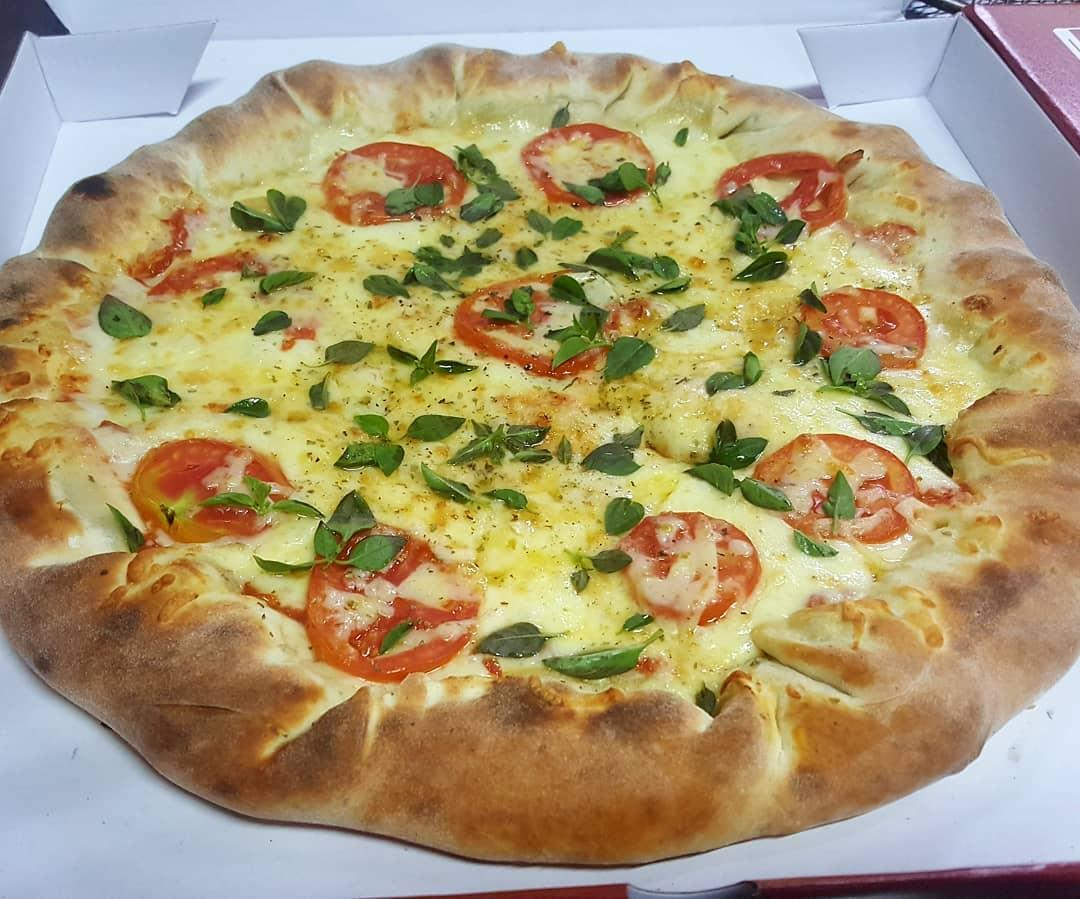Basil: (687, 416, 797, 516), (708, 182, 809, 287), (832, 400, 952, 473), (361, 243, 500, 300), (543, 623, 672, 684), (817, 342, 916, 421), (561, 159, 675, 218), (449, 136, 523, 225), (446, 416, 556, 468), (544, 299, 618, 372), (591, 225, 682, 282), (336, 409, 406, 480), (381, 338, 482, 386), (464, 622, 575, 665), (107, 372, 184, 429), (228, 185, 308, 238), (580, 418, 645, 480), (595, 332, 657, 390), (325, 490, 380, 553), (336, 530, 411, 574), (816, 465, 859, 539), (381, 169, 447, 217), (410, 460, 476, 507), (297, 336, 377, 374), (704, 347, 760, 401), (93, 293, 153, 343), (102, 497, 151, 556), (568, 547, 636, 588), (484, 285, 541, 329), (480, 484, 542, 523), (522, 206, 589, 241), (541, 269, 597, 309), (256, 265, 321, 299), (648, 301, 713, 335), (196, 488, 265, 520), (599, 494, 648, 538), (401, 413, 464, 443), (253, 552, 331, 576), (789, 526, 843, 559), (791, 318, 825, 369), (268, 495, 323, 526), (309, 517, 340, 569), (223, 391, 272, 423), (376, 617, 418, 654), (797, 275, 831, 317), (250, 308, 298, 337), (241, 473, 275, 512), (304, 371, 334, 415), (545, 96, 576, 137), (643, 273, 697, 296), (619, 608, 657, 635), (200, 285, 230, 312), (473, 224, 504, 249), (512, 244, 539, 272), (556, 431, 572, 470), (436, 231, 461, 250), (672, 122, 690, 148)
Pizza: (0, 40, 1080, 869)
Tomatoes: (303, 521, 486, 689), (453, 260, 630, 384), (750, 434, 931, 548), (131, 429, 301, 547), (620, 506, 765, 632), (713, 141, 859, 255), (515, 122, 667, 219), (322, 134, 472, 231), (127, 200, 263, 306), (800, 277, 930, 386)
